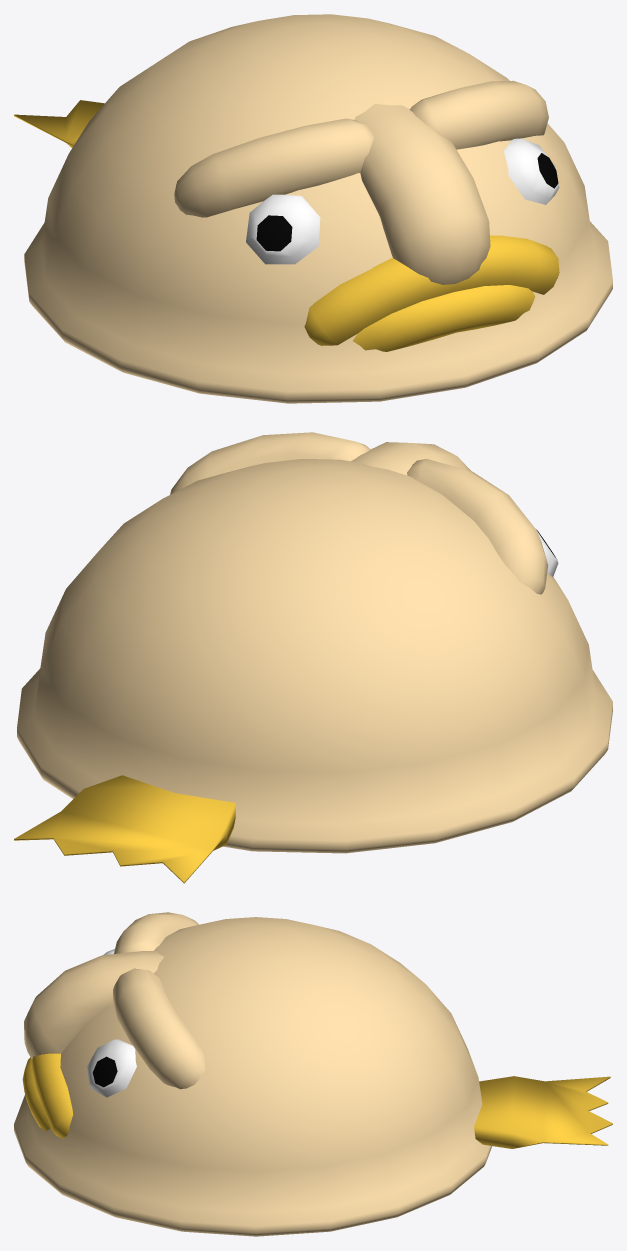
File: Arbitre.fbx
3 views of the same model, one above another, from view 1: azimuth 30°, elevation 25°; view 2: azimuth 150°, elevation 25°; view 3: azimuth 270°, elevation 25° (orthographic). The views are drawn at different scales.
Visible parts, largest first — view 1: Arbitre; view 2: Arbitre; view 3: Arbitre.
Boxes of the visible parts, left/top/right/bottom form: Arbitre: left=14, top=14, right=612, bottom=403; Arbitre: left=14, top=432, right=612, bottom=883; Arbitre: left=14, top=912, right=612, bottom=1236.
Bounding box in the file's own units: 3452 × 4272 × 1524.
